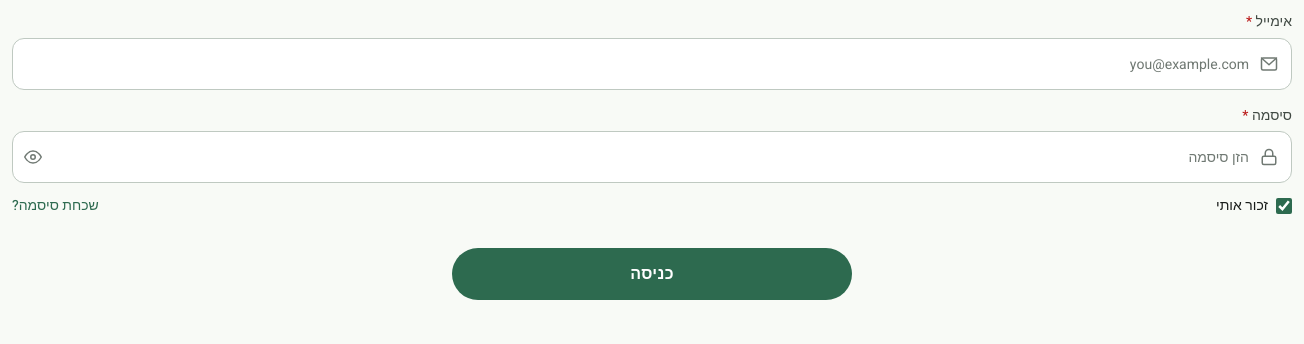
Test: AuthForm › rejects an invalid email
The width and height of the screenshot is (1304, 344).
Type "not-an-email" into the field with placeholder "you@example.com".
click(652, 64); type("not-an-email")  # box x1=12 y1=38 x2=1292 y2=90
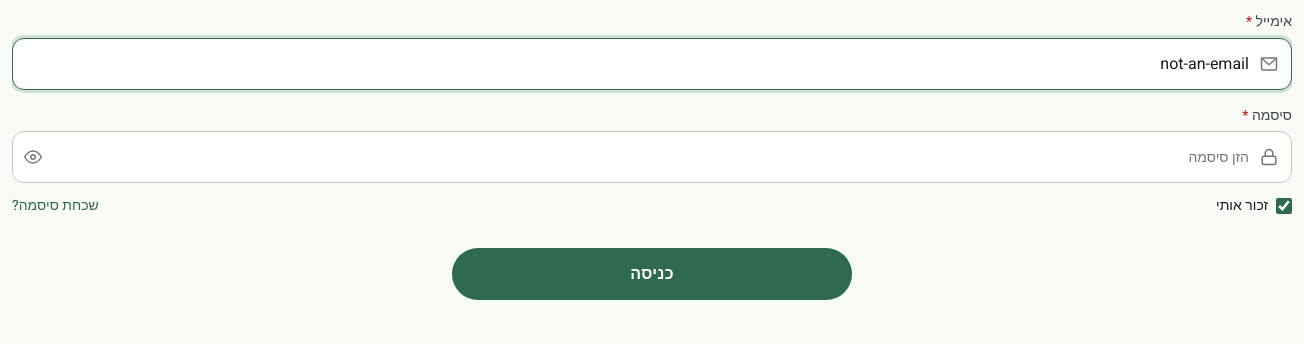
Type "123456" into the password field with placeholder "הזן סיסמה".
click(652, 157); type("123456")  # box x1=12 y1=131 x2=1292 y2=183
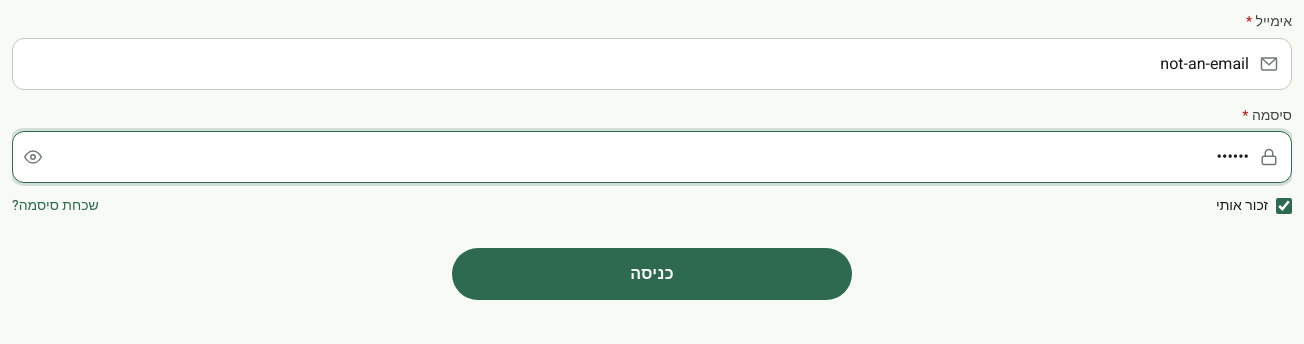
Click the button "כניסה".
click(652, 274)  # box x1=452 y1=248 x2=852 y2=300
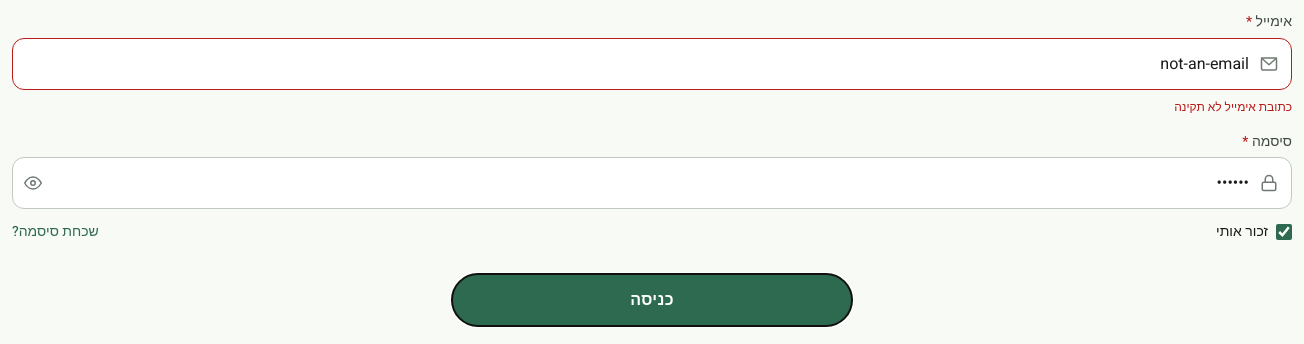
Now the text "כתובת אימייל לא תקינה" is shown, box x1=1174 y1=98 x2=1292 y2=116
